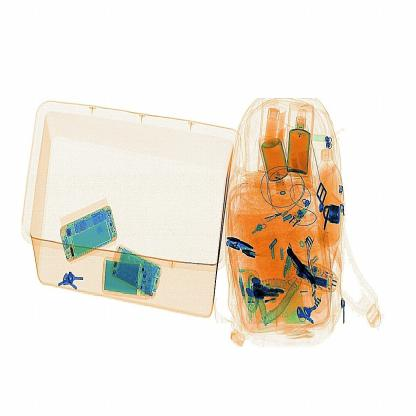knife: (277, 232, 320, 298)
